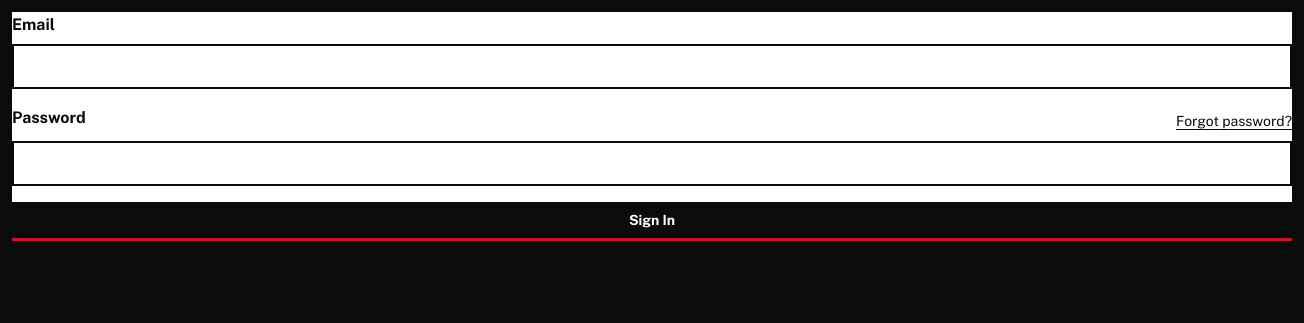
Test: LoginForm › Basic login flow › displays error message on login failure
This screenshot has width=1304, height=323.
Type "wrong@example.com" into the field labelled "Email" at [652, 66], box [12,44,1292,89]
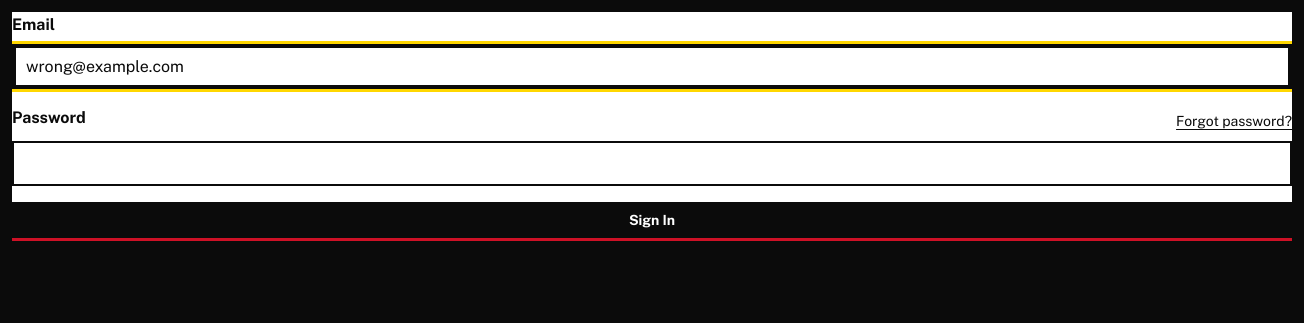
Type "wrongpassword" into the password field labelled "Password" at [652, 164], box [12,141,1292,186]
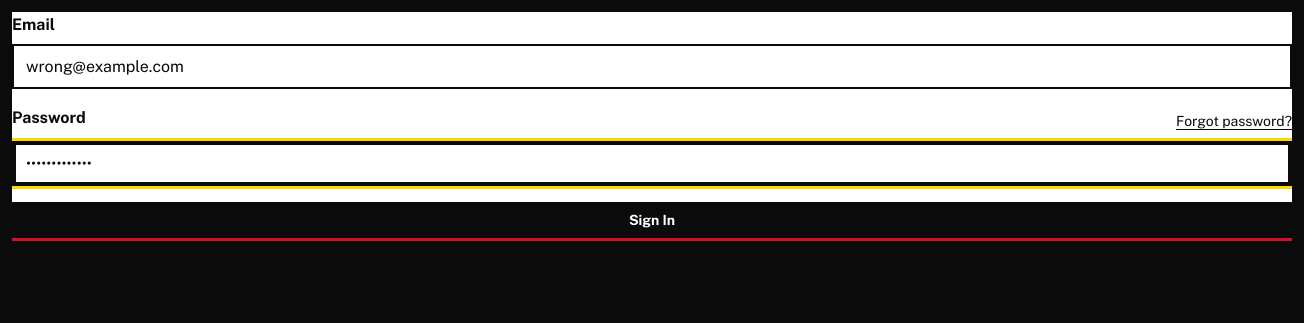
Click the button "Sign In" at [652, 220], box [12,202,1292,238]
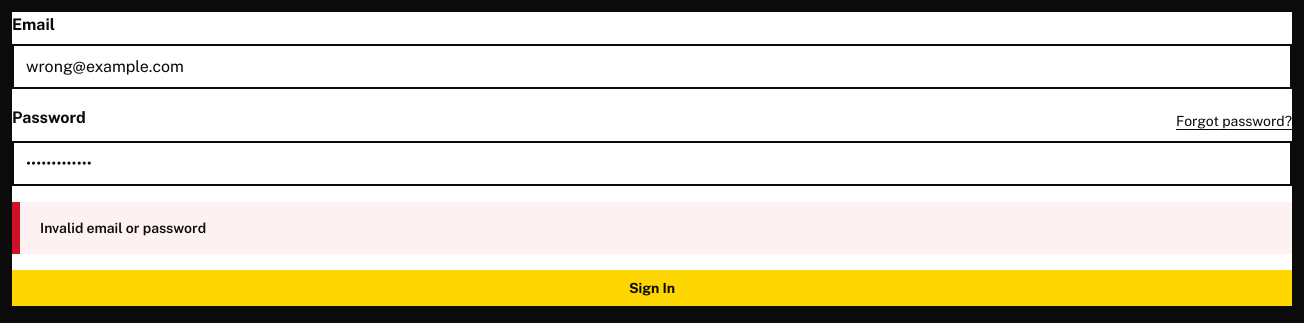
Now the text "Invalid email or password" is shown, box [12,202,1292,254]
